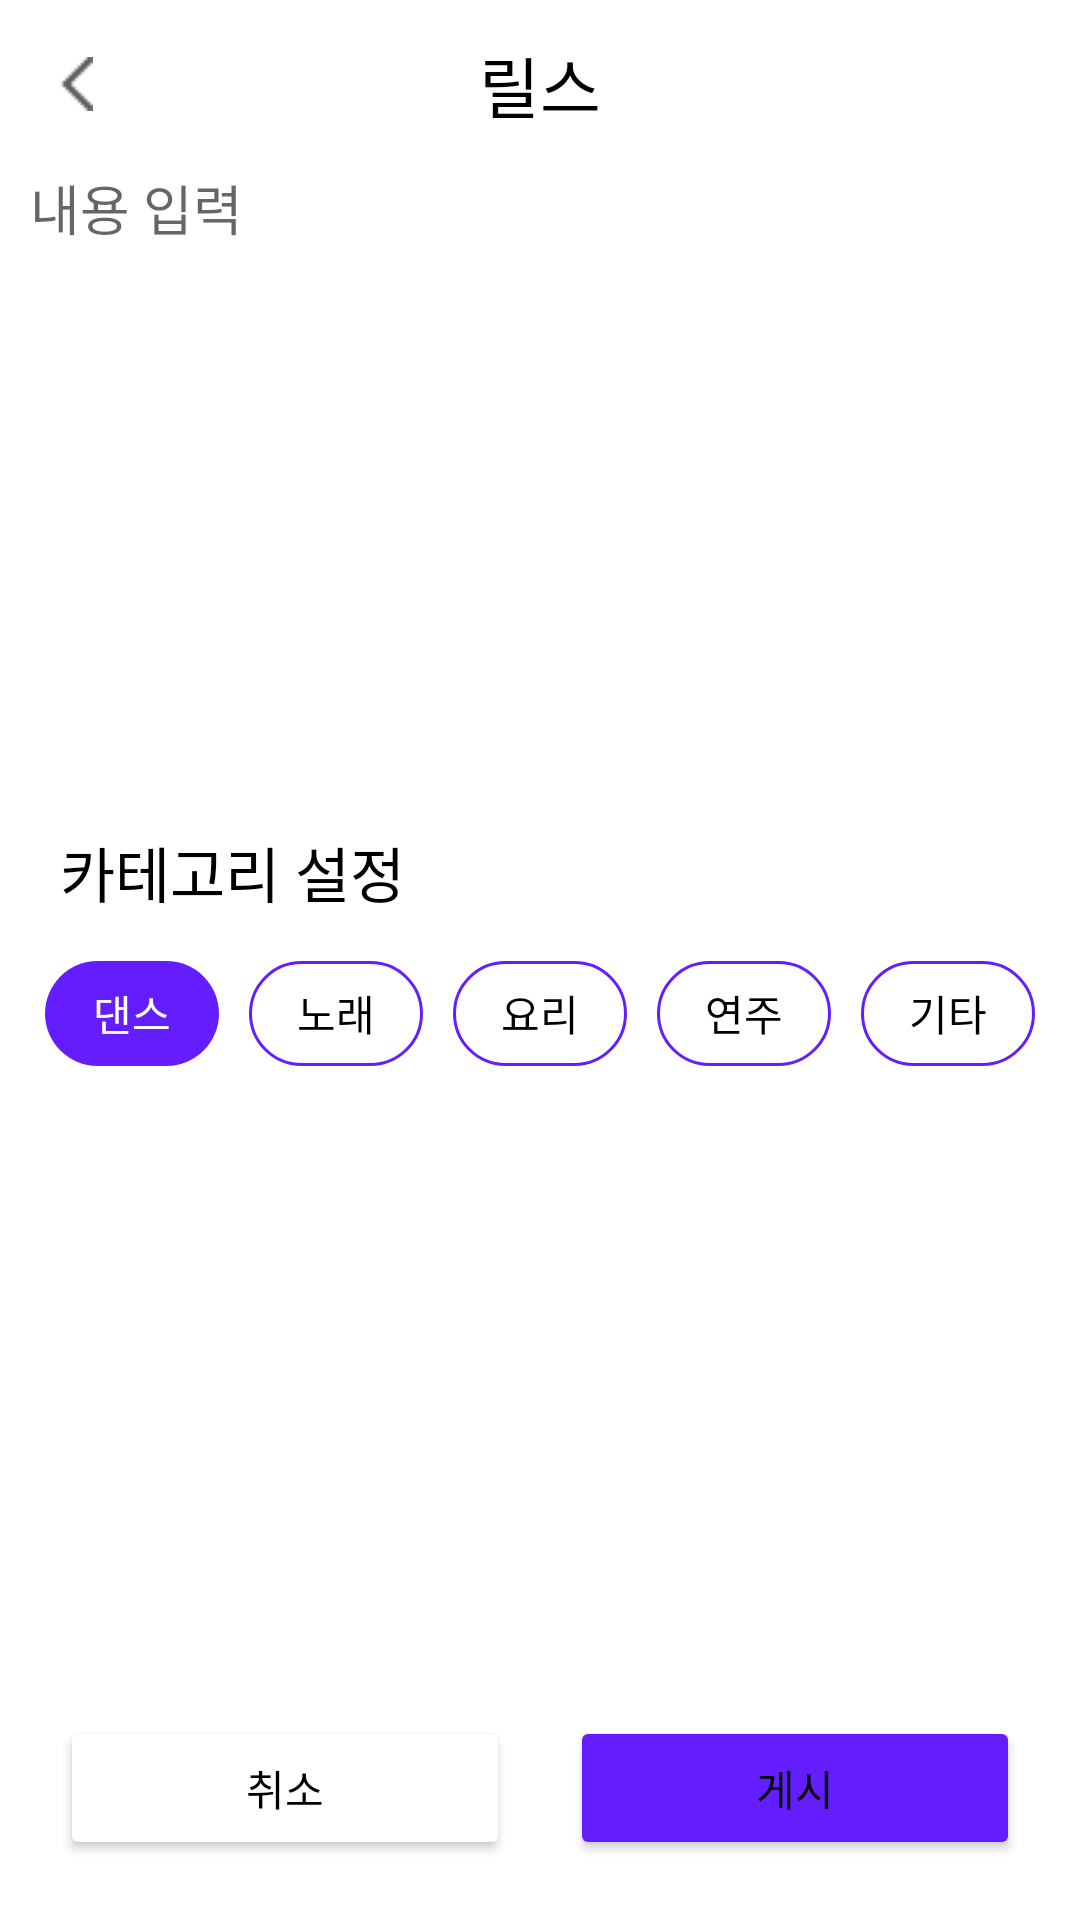

Icons on this 1080w x 1920h Android screen, each with its box as (x1, y1, x2, y2):
back send video: (62, 57, 93, 111)
